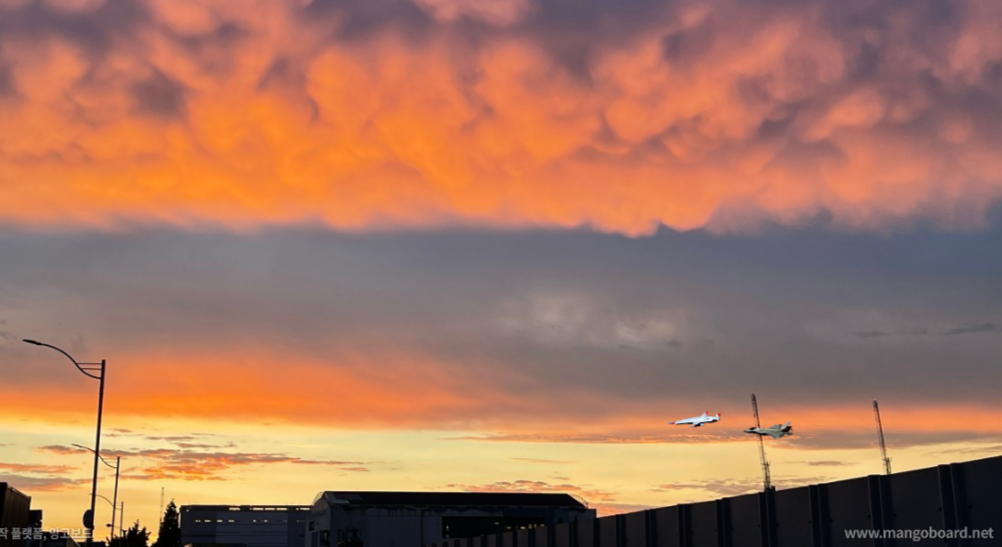airplane: (742, 421, 794, 439)
military drone: (666, 410, 721, 427)
